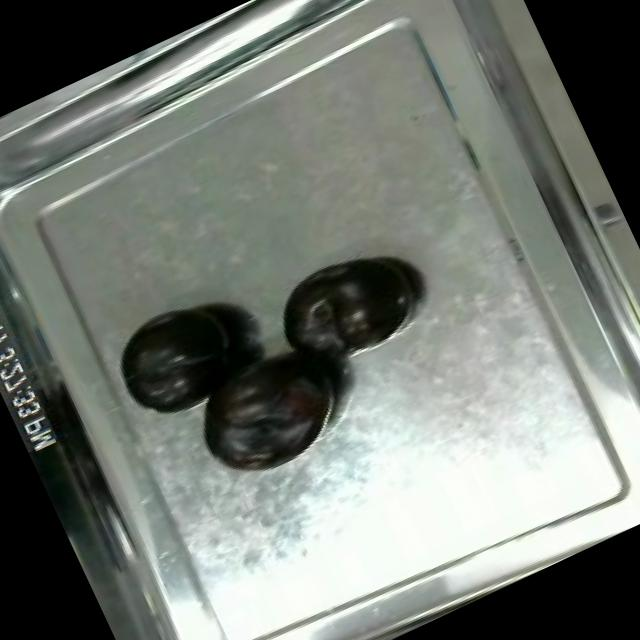Fruit: (174, 324, 362, 494), (258, 232, 431, 378), (99, 280, 264, 432)
